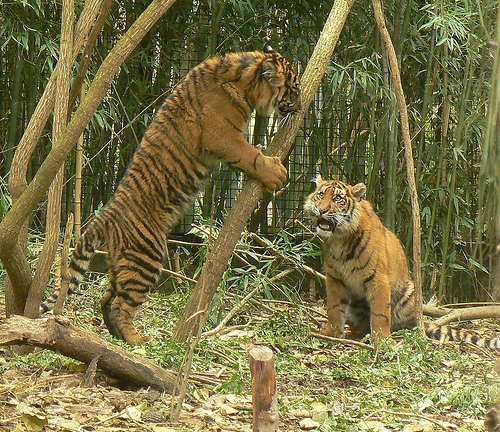Tigre: (80, 38, 308, 366), (306, 178, 407, 342)
